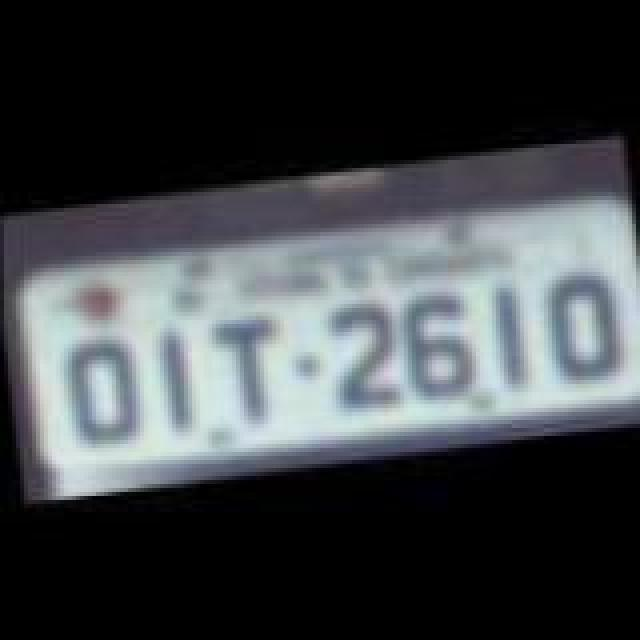1: (476, 276, 536, 392), (144, 320, 200, 436)
2: (314, 294, 402, 414)
6: (394, 288, 482, 408)
O: (530, 264, 626, 392), (58, 332, 142, 452)
T: (202, 310, 290, 426)
